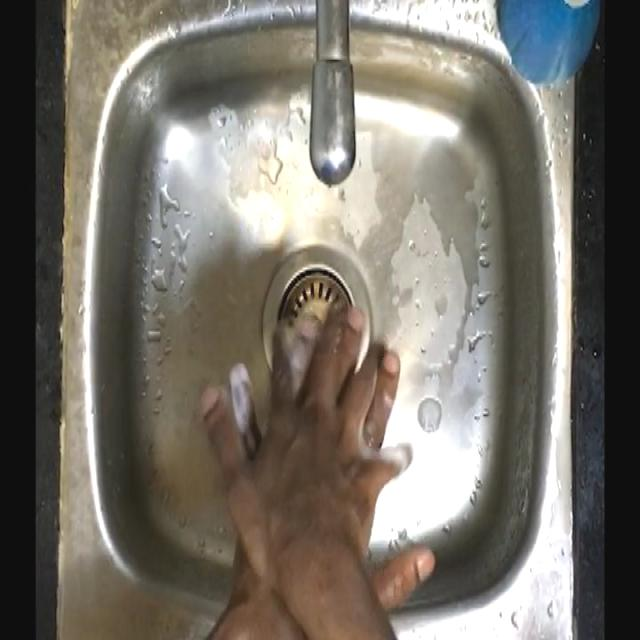step_2: (199, 295, 428, 588)
